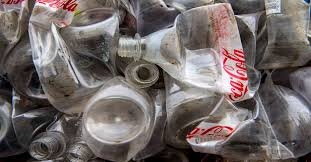plastic: (114, 4, 266, 100), (28, 4, 131, 118), (80, 72, 155, 161)
